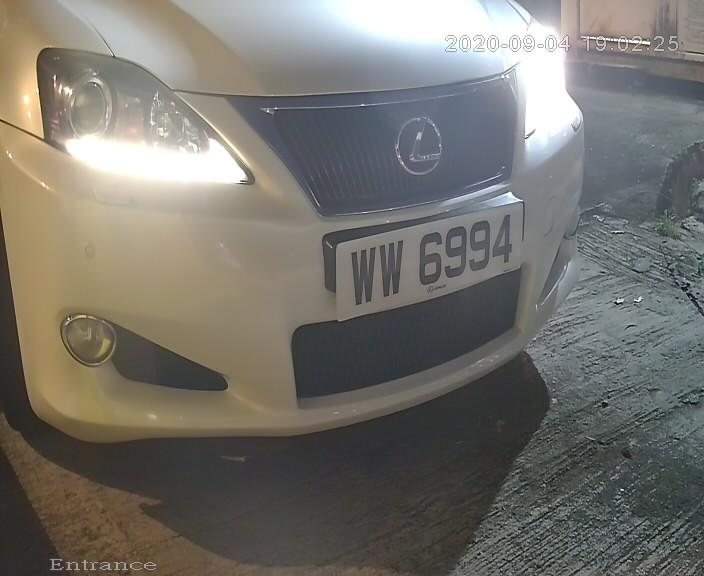License Plate: (318, 188, 534, 341)
